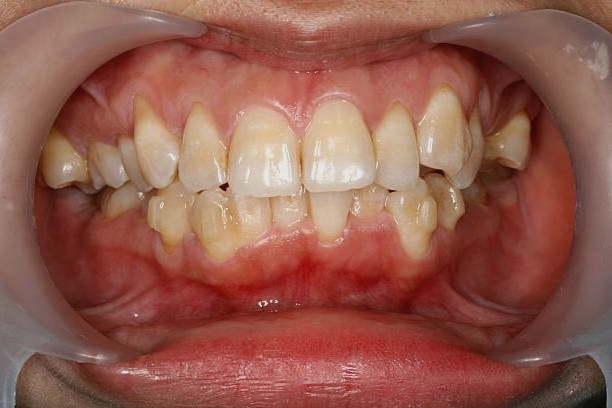Gingivitis: (106, 255, 449, 316)
